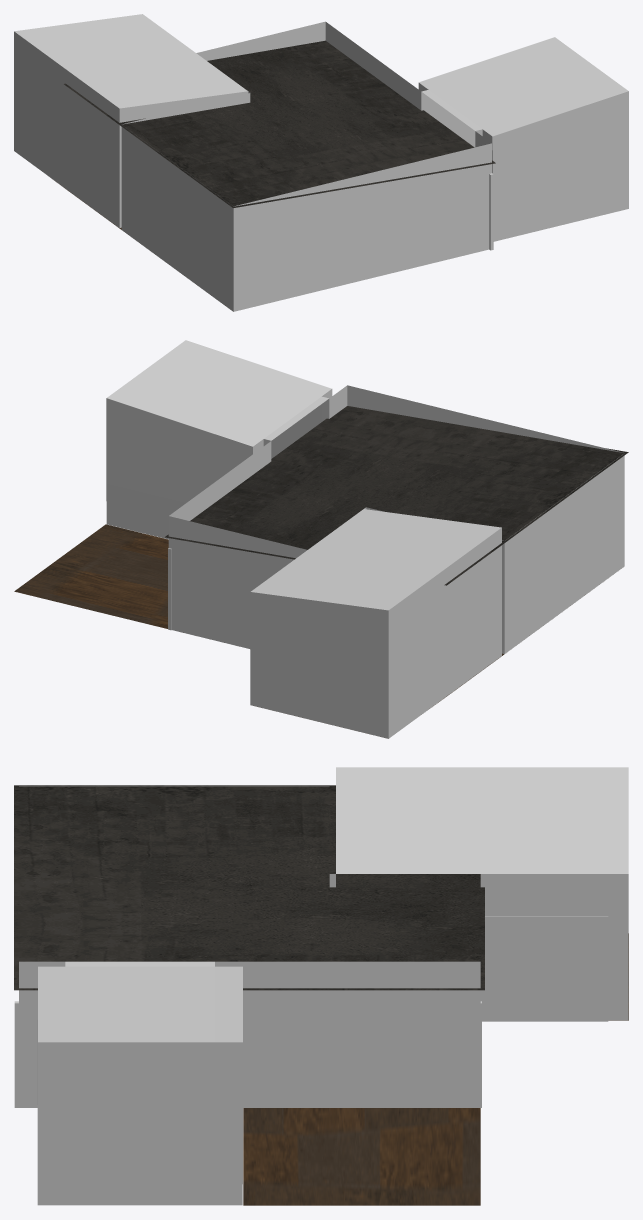
File: GalleryV9.glb
3 renders of one model, top to bottom at view 1: azimuth 30°, elevation 25°; view 2: azimuth 150°, elevation 25°; view 3: azimuth 270°, elevation 25°, orthographic. The views are drawn at different scales.
Visible parts, largest first — view 1: walls, ceiling; view 2: walls, ceiling, floor; view 3: walls, ceiling, HIdingWall, floor, HIdingWall.001.
Boxes of the visible parts, x1,y1,x2,y2 form: walls: (14,14,628,311); ceiling: (64,40,495,208); walls: (106,340,624,738); ceiling: (165,406,628,585); floor: (14,524,504,704); walls: (19,767,628,1205); ceiling: (14,785,484,990); HIdingWall: (14,1001,481,1107); floor: (243,933,628,1205); HIdingWall.001: (480,916,608,1021).
Bounding box in the file's own units: 56.07 × 15.93 × 53.17.
Materials: 3 (2 with a texture image).
